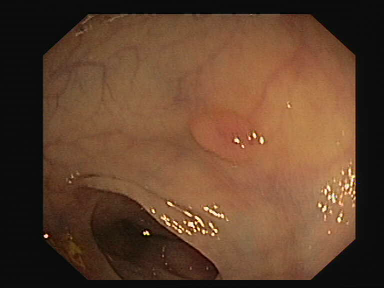polyp: (184, 92, 272, 166)
